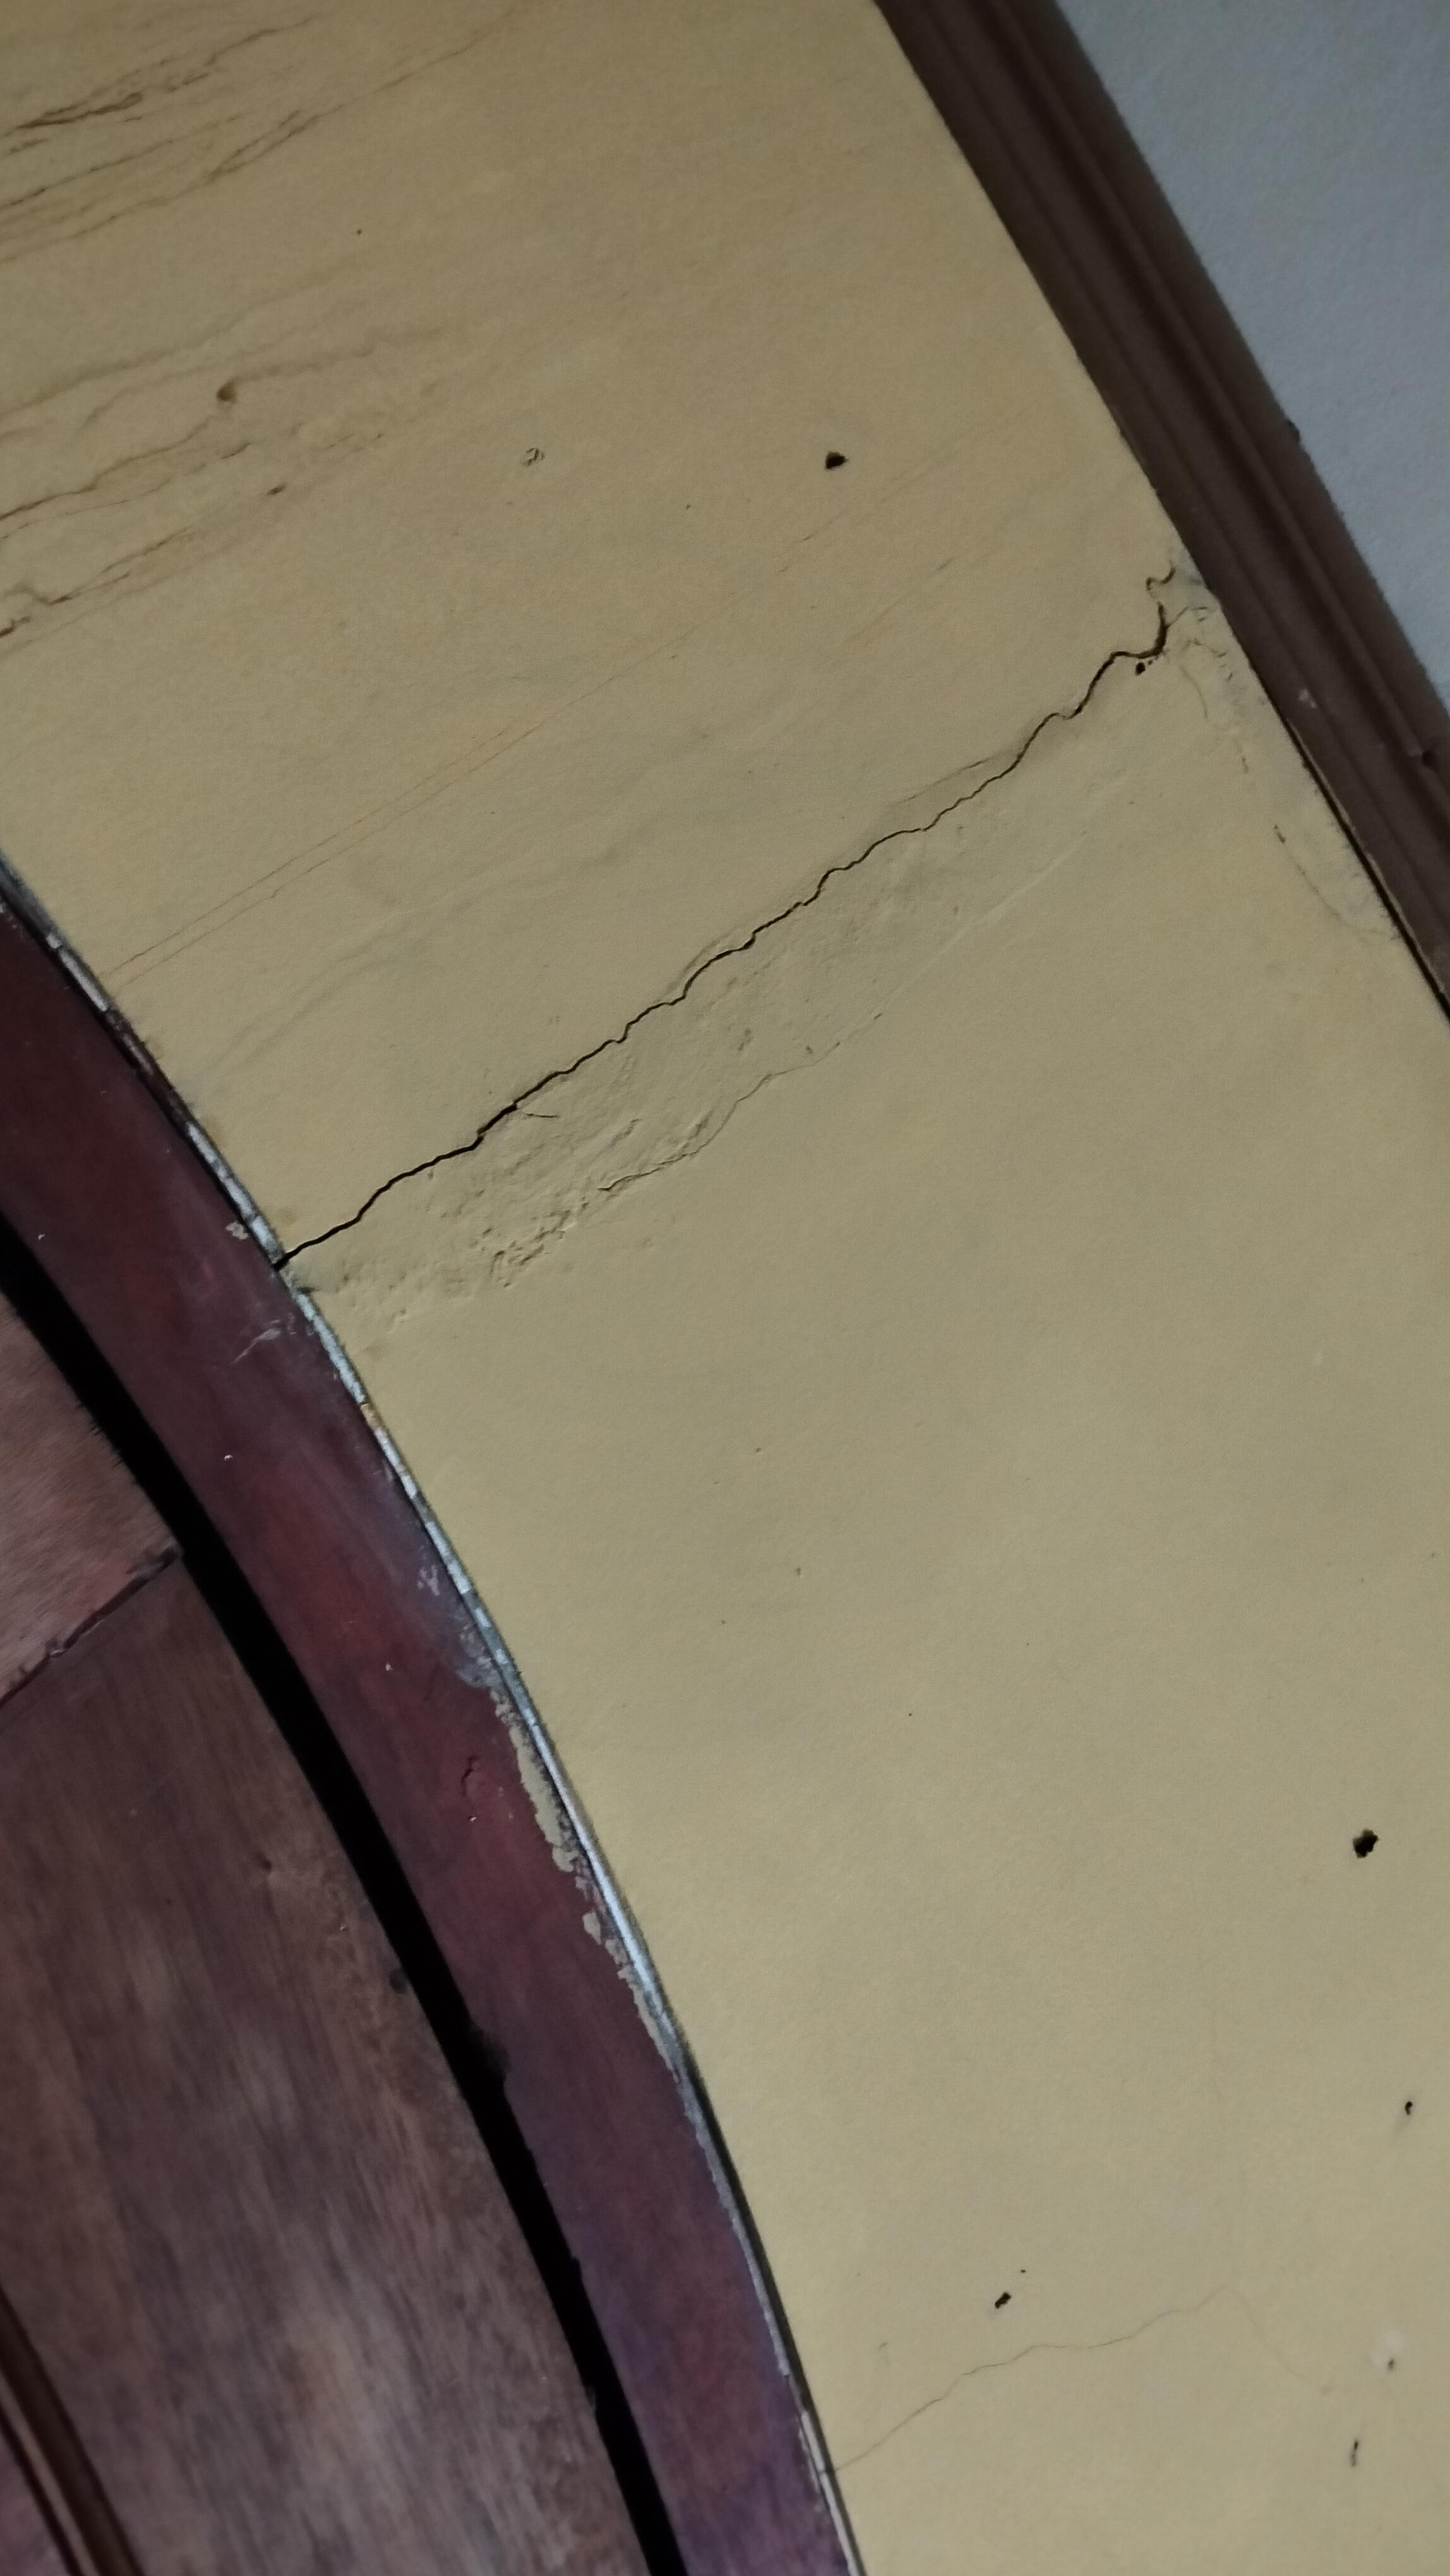Crack: (278, 547, 1193, 1276)
